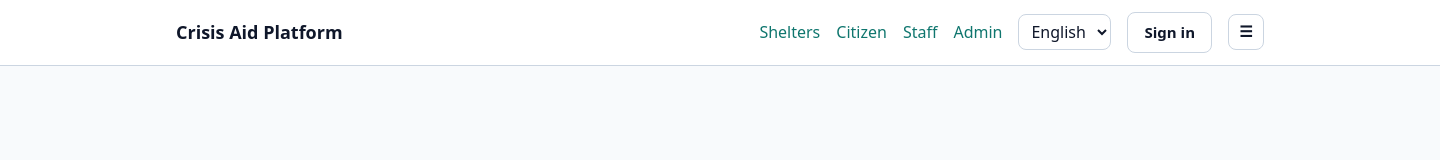
Test: icon-only button aria-labels › toggles Navbar menu button aria-label and aria-expanded
Step 1. Click the button named "Open navigation menu" → click(1246, 32), box [1228,14,1264,50]
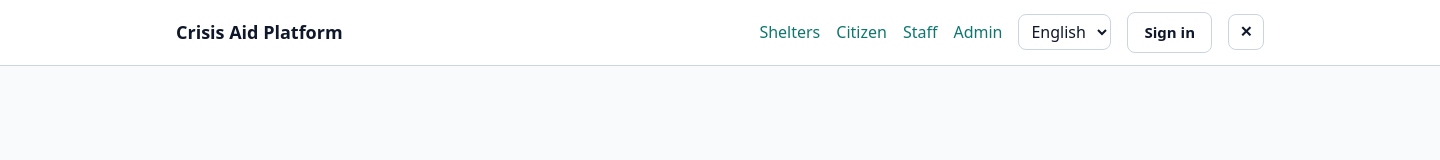
Now the button named "Close navigation menu" is expanded, box [1228,14,1264,50]
